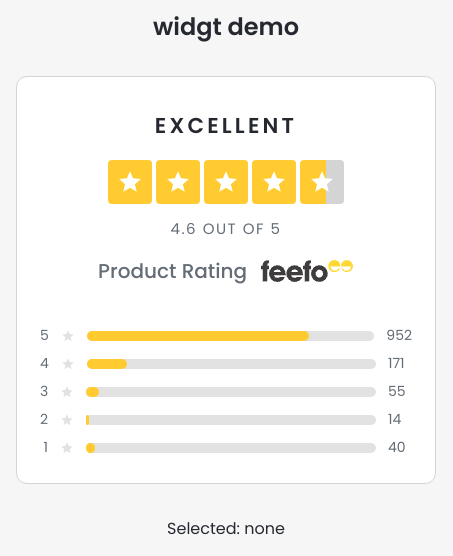
Test: App › §8 the status text is "Selected: none", "Selected: 4 stars", "Selected: 1 star"
Expected: the message with test id "selection" reads "Selected: none", [167,517,285,540]
Click the button named "4 stars: 171 reviews (13.9%)" at (226,364), box [39,352,413,376]
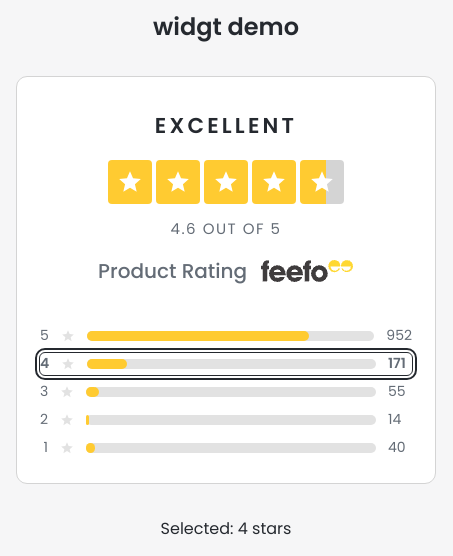
Expected: the message with test id "selection" reads "Selected: 4 stars", [161,517,291,540]
Click the button named "1 star: 40 reviews (3.2%)" at (226,448), box [39,436,413,460]
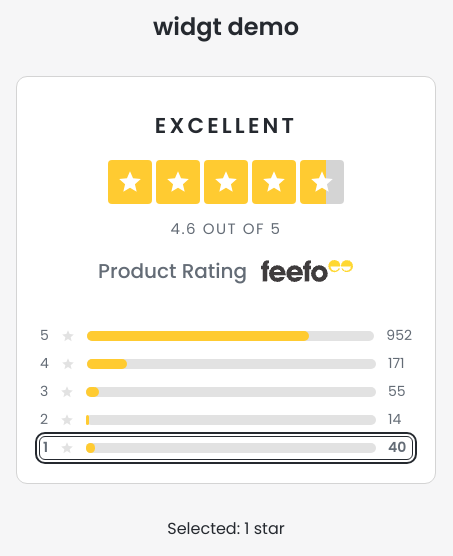
Expected: the message with test id "selection" reads "Selected: 1 star", [167,517,285,540]
